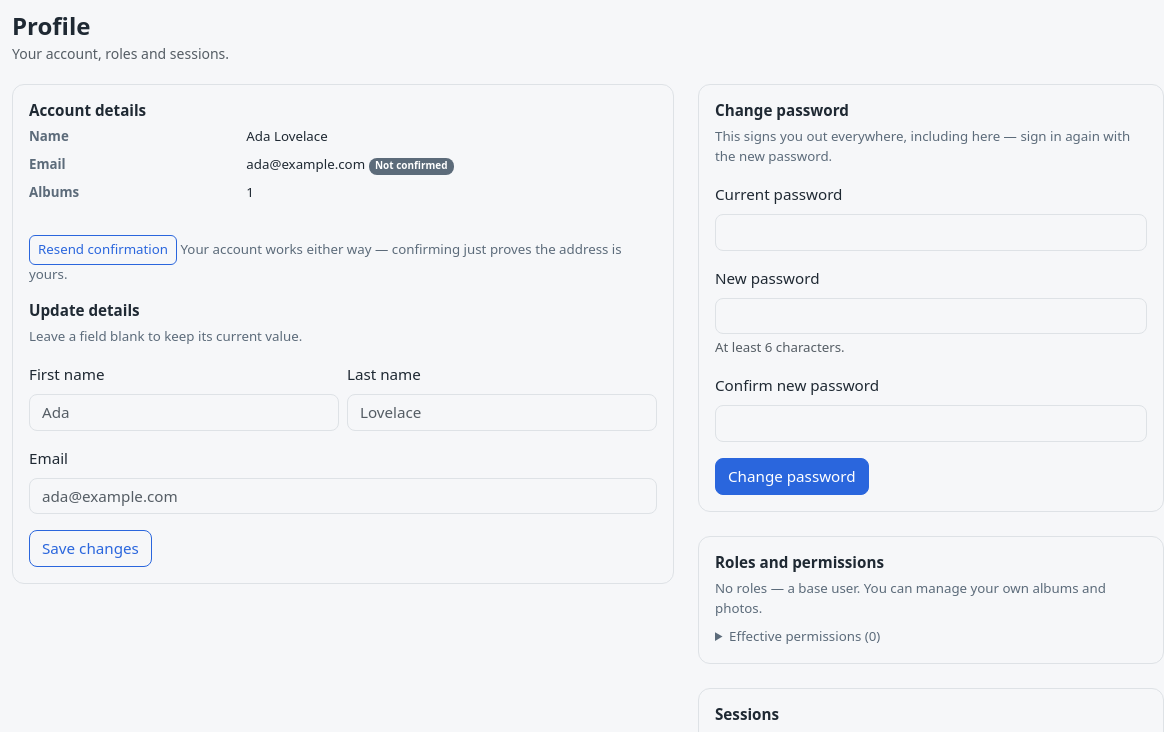
Test: The verification state on the profile › does not claim a message was sent, because the API never says so
Click the button "Resend confirmation".
click(103, 250)  # box [29, 235, 177, 265]
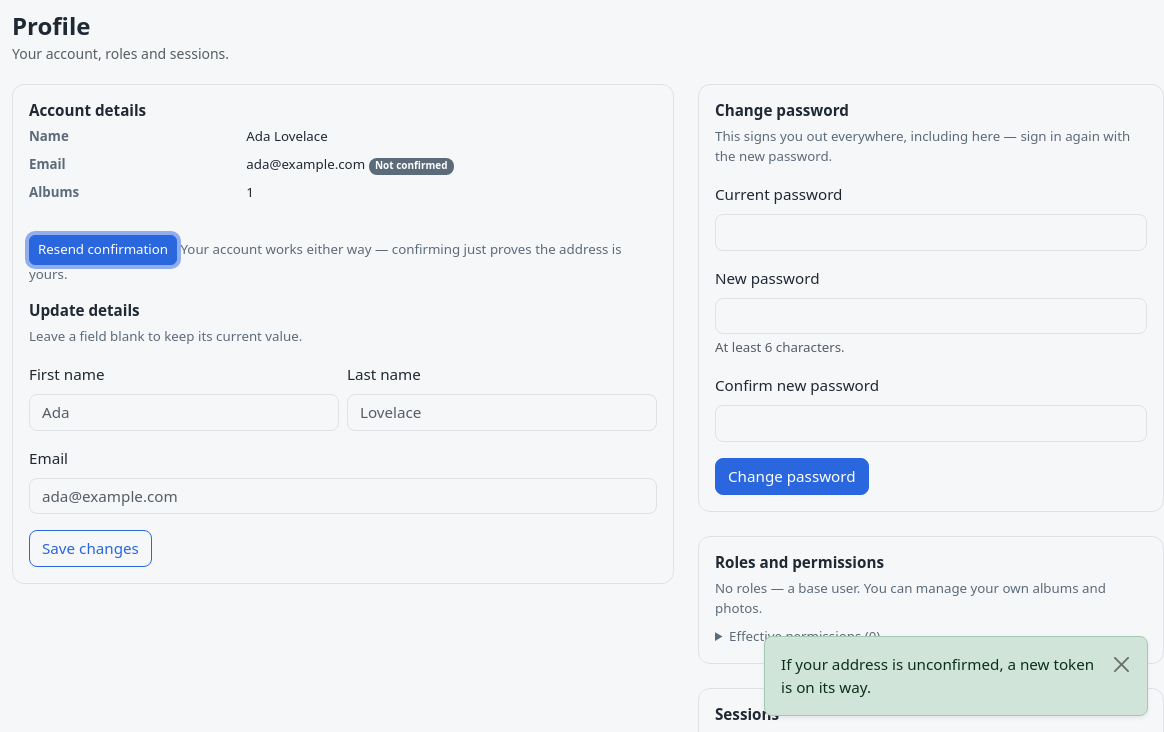
Expected: the text "If your address is unconfirmed, a new token is on its way." is shown, [781, 653, 1103, 699]
